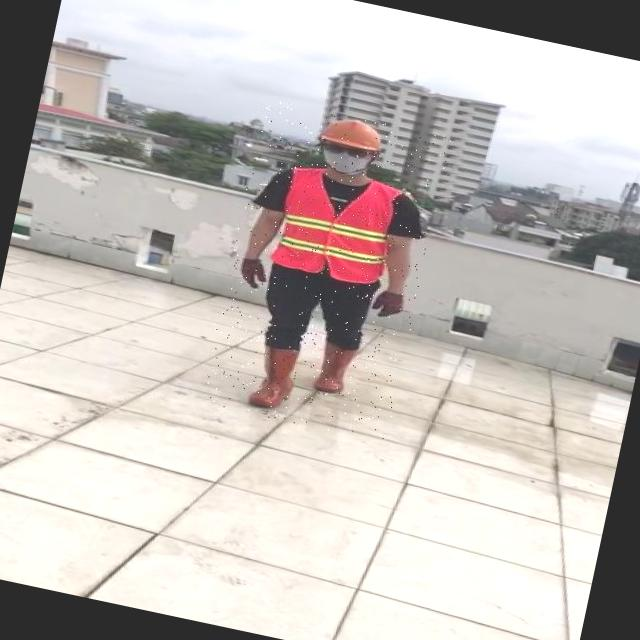boots: (244, 339, 302, 414), (310, 340, 360, 398)
gloves: (227, 240, 280, 302), (367, 284, 420, 336)
helmet: (321, 111, 386, 155)
vest: (266, 163, 402, 288)
